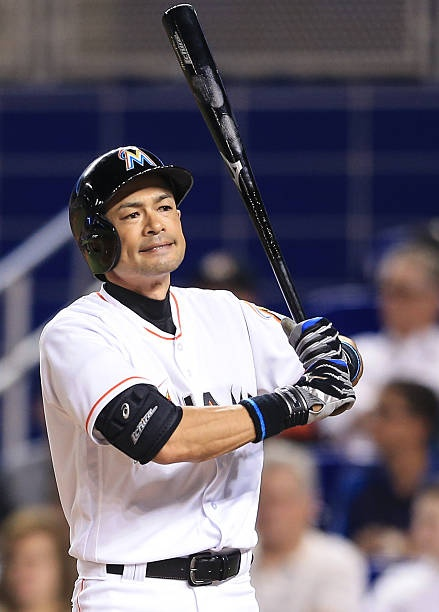bita: (161, 8, 330, 376)
